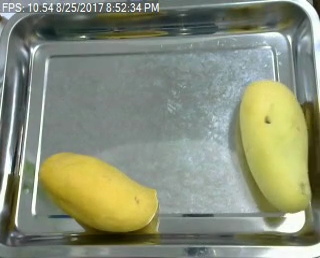Mango: (233, 74, 315, 213), (37, 146, 161, 235)
